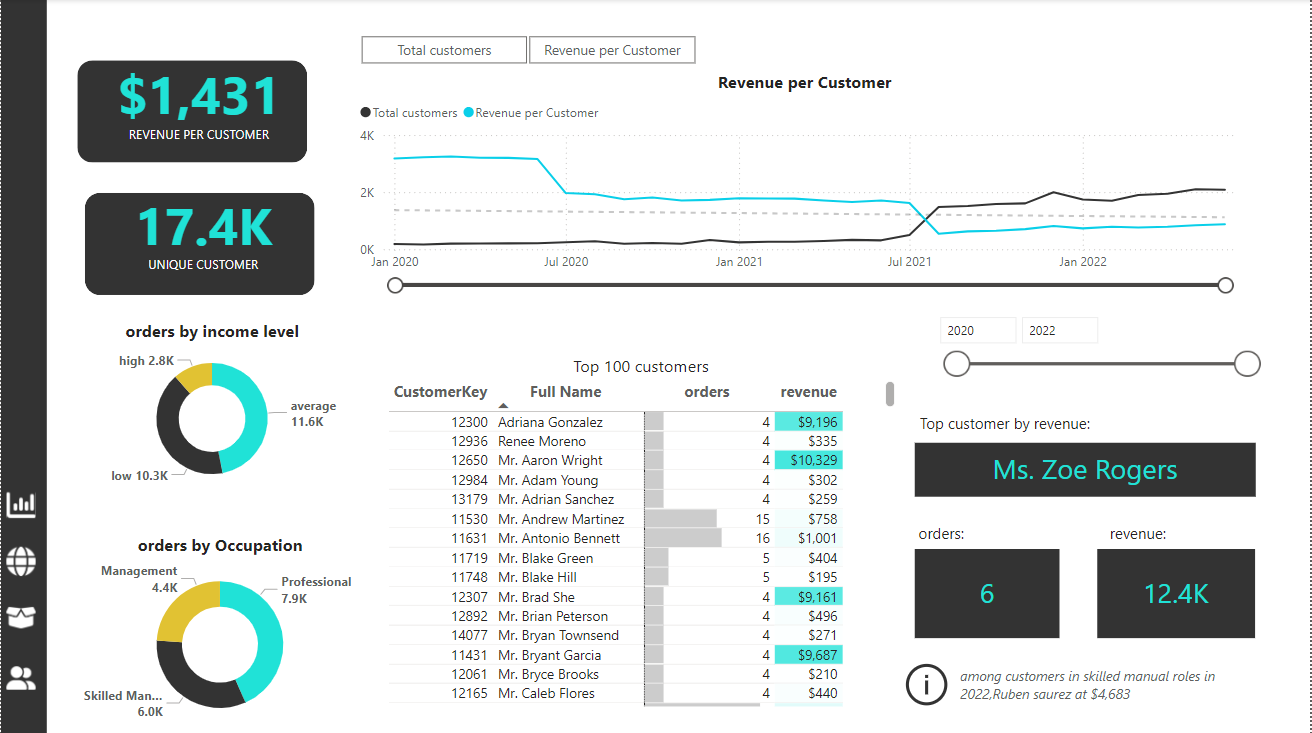

The page's visual inventory and layout, read from the dashboard file:
{"tool":"powerbi","page":{"name":"Customer detail","canvas":[1280,720],"ordinal":3},"visuals":[{"type":"shape","box":[0,0,45,720.2],"z":0},{"type":"shape","box":[81.3,190.4,225,100.3],"z":0,"group":"g1"},{"type":"actionButton","box":[0.9,472,36.7,46.5],"z":0,"group":"g3"},{"type":"shape","box":[74.6,59.5,225,100.3],"z":1000,"group":"g2"},{"type":"group","id":"g1","title":"Group 1","box":[50,154.5,295.9,146.7],"z":1000},{"type":"actionButton","box":[0.9,527,36.7,46.5],"z":1000,"group":"g3"},{"type":"group","id":"g2","title":"Group 2","box":[74.6,39.1,238.5,121.1],"z":2000},{"type":"card","fields":{"Values":["Measure Table.Average Revenue per Customer"]},"box":[74.8,39.1,238.5,121.1],"z":2000,"group":"g2"},{"type":"actionButton","box":[0.9,582.1,36.7,46.5],"z":2000,"group":"g3"},{"type":"lineChart","fields":{"Category":["Calendar Lookup.date hirarchy.Start of Year","Calendar Lookup.date hirarchy.Start of Month","Calendar Lookup.date hirarchy.Start of Quarter","Calendar Lookup.date hirarchy.Start of Week","Calendar Lookup.date hirarchy.Date"],"Y":["Measure Table.Average Revenue per Customer"]},"box":[346.1,69.7,880.4,221.3],"z":3000},{"type":"actionButton","box":[0.9,637.1,36.7,53.8],"z":3000,"group":"g3"},{"type":"donutChart","title":"orders by income level","fields":{"Category":["Customer Lookup.Income level"],"Y":["Measure Table.Total orders"]},"box":[66.8,312.9,278.8,173.5],"z":4000},{"type":"card","fields":{"Values":["Measure Table.Total customers"]},"box":[50,154.5,295.9,146.7],"z":4500,"group":"g1"},{"type":"donutChart","title":"orders by Occupation","fields":{"Y":["Measure Table.Total orders"],"Category":["Customer Lookup.Occupation"]},"box":[81.1,522,267.4,197.7],"z":5000},{"type":"tableEx","title":"Top 100 customers","fields":{"Values":["Sales Data.CustomerKey","Customer Lookup.Full Name","Measure Table.Total orders","Measure Table.Total revenue"]},"box":[372.6,347,506.3,349.9],"z":6000},{"type":"card","fields":{"Values":["Calendar Lookup.Full name (customer details)"]},"box":[893.9,434.1,333.8,52.6],"z":7000},{"type":"card","fields":{"Values":["Measure Table.Total revenue (customer details)"]},"box":[1072.4,538,154.1,86.8],"z":8000},{"type":"card","fields":{"Values":["Measure Table.Total orders (customer details)"]},"box":[893.9,538,141.8,86.8],"z":9000},{"type":"textbox","box":[893.9,399.9,233.6,31.8],"z":10000},{"type":"textbox","box":[1079.8,507.5,94.2,30.6],"z":11000},{"type":"textbox","box":[892.7,507.5,130.8,30.6],"z":12000},{"type":"slicer","fields":{"Values":["Calendar Lookup.Year"]},"box":[906.1,300.8,333.8,74.6],"z":13000},{"type":"actionButton","box":[879.2,644.4,384,52.6],"z":14000},{"type":"group","id":"g3","title":"nevigation buttons","box":[0.9,472,36.7,218.9],"z":15000},{"type":"slicer","fields":{"Values":["customer metric selection.customer metric selection"]},"box":[326.5,29.3,376.6,40.4],"z":16001}]}

Visuals, with their boxes in screenshot pixels (x1, y1, x2, y2), scaled from the page's 1280x720 canvas onto the 1312x733 screenshot:
shape: box(0, 0, 46, 732)
shape: box(83, 194, 314, 296)
actionButton: box(1, 481, 39, 528)
shape: box(76, 61, 307, 163)
"Group 1" group: box(51, 157, 355, 307)
actionButton: box(1, 537, 39, 584)
"Group 2" group: box(76, 40, 321, 163)
card - Measure Table.Average Revenue per Customer: box(77, 40, 321, 163)
actionButton: box(1, 593, 39, 640)
lineChart - Calendar Lookup.date hirarchy.Start of Year x Calendar Lookup.date hirarchy.Start of Month: box(355, 71, 1257, 296)
actionButton: box(1, 649, 39, 703)
"orders by income level" donutChart: box(68, 319, 354, 495)
card - Measure Table.Total customers: box(51, 157, 355, 307)
"orders by Occupation" donutChart: box(83, 531, 357, 732)
"Top 100 customers" tableEx: box(382, 353, 901, 709)
card - Calendar Lookup.Full name (customer details): box(916, 442, 1258, 495)
card - Measure Table.Total revenue (customer details): box(1099, 548, 1257, 636)
card - Measure Table.Total orders (customer details): box(916, 548, 1062, 636)
textbox: box(916, 407, 1156, 439)
textbox: box(1107, 517, 1203, 548)
textbox: box(915, 517, 1049, 548)
slicer - Calendar Lookup.Year: box(929, 306, 1271, 382)
actionButton: box(901, 656, 1295, 710)
"nevigation buttons" group: box(1, 481, 39, 703)
slicer - customer metric selection.customer metric selection: box(335, 30, 721, 71)
